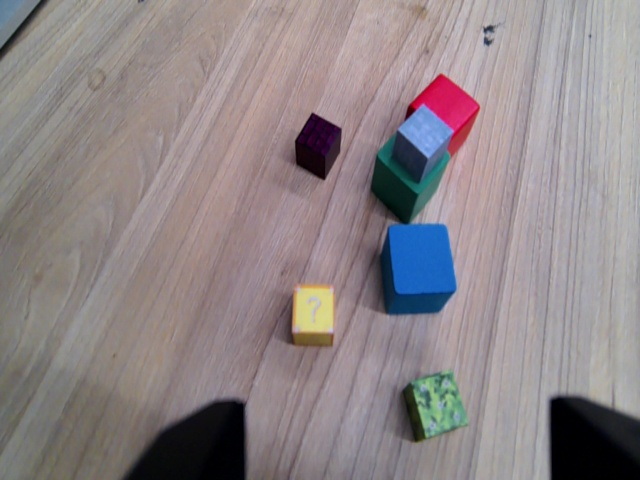brick: (296, 111, 341, 175)
grass: (408, 363, 469, 439)
lucky: (290, 281, 337, 351)
stone: (398, 106, 449, 173)
